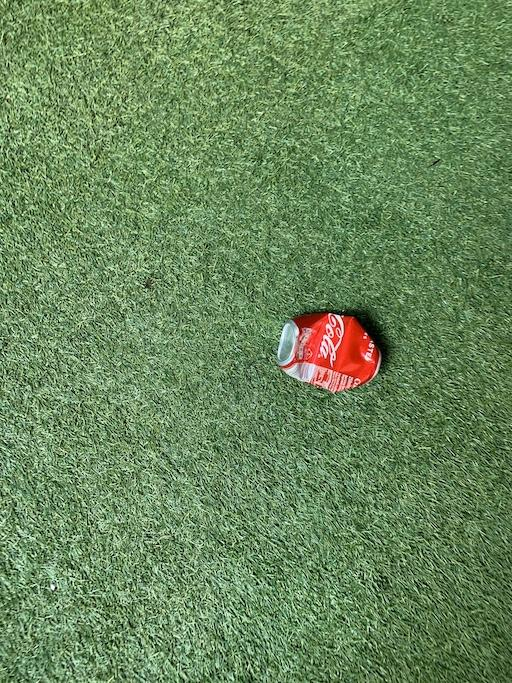Aluminum can: (269, 300, 405, 389)
